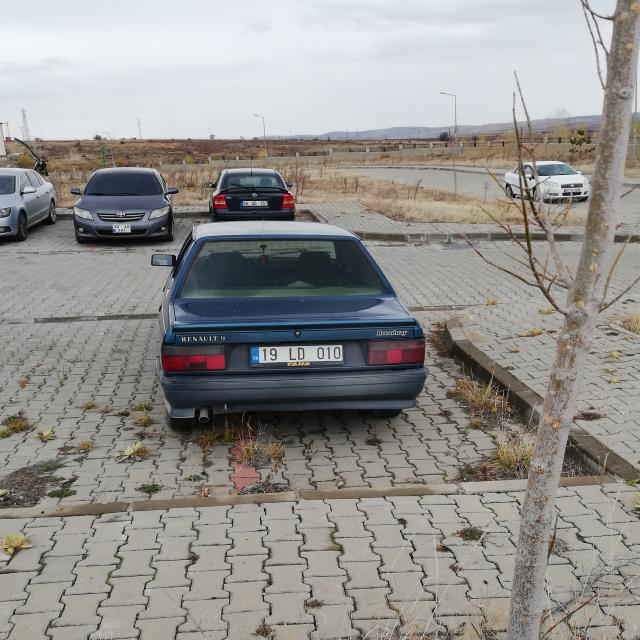license_plate: (251, 345, 344, 362)
